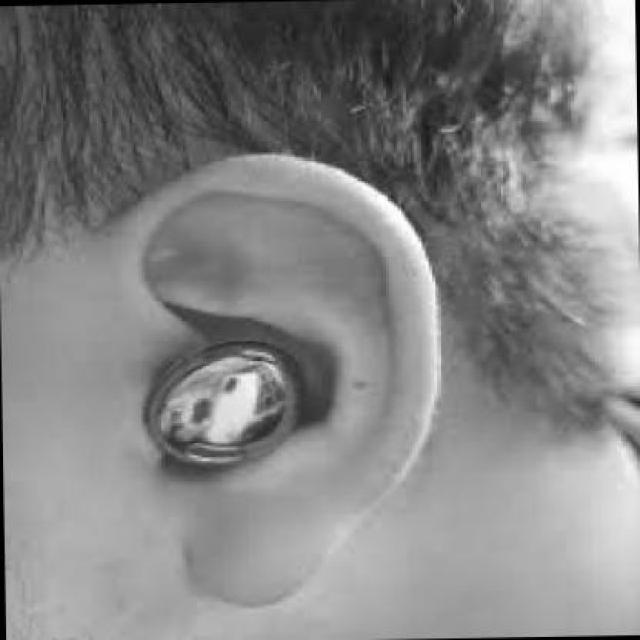earphone: (133, 333, 330, 471)
